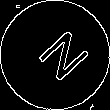N_SW: (23, 23, 87, 87)
